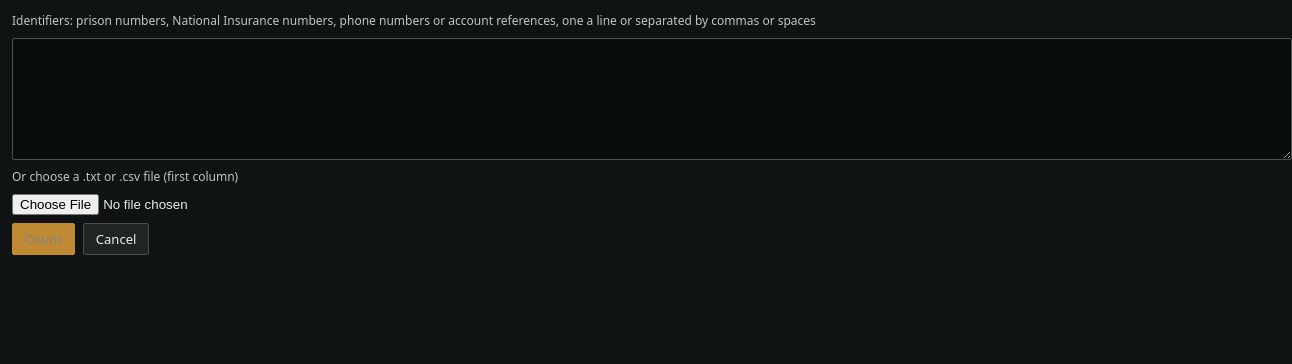
Test case: the count comes first › offers no add when nothing was found
This screenshot has width=1292, height=364.
Type "Z9999ZZ NOBODY" into the text box labelled "Identifiers" at (652, 99), box [12,38,1291,160]
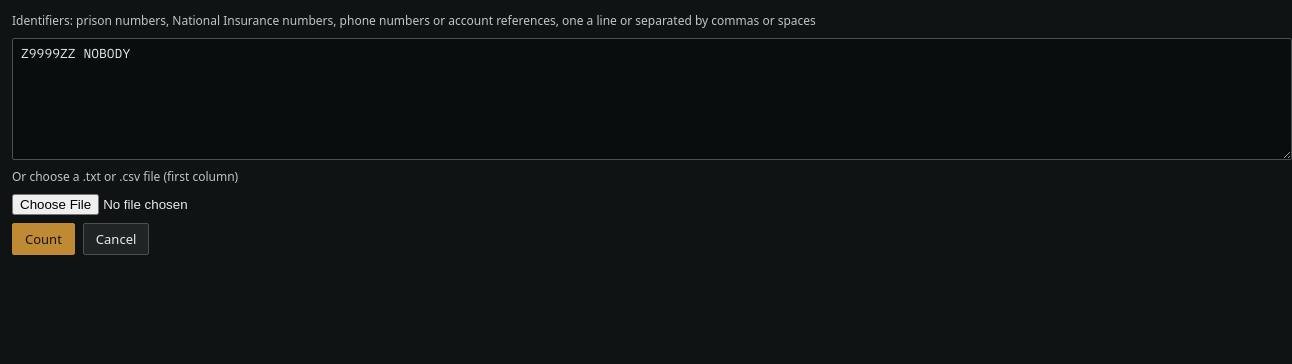
Click the button "Count" at (43, 239), box [12,223,75,255]
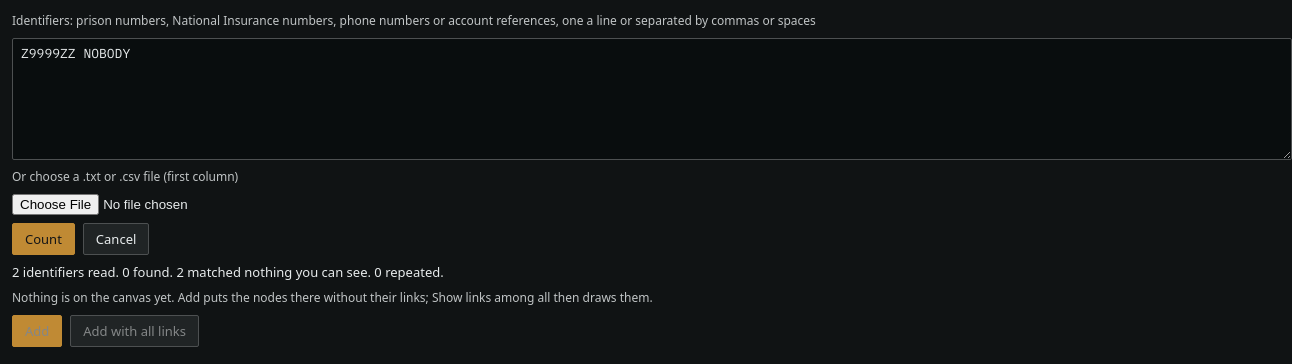
Expected: the message "2 identifiers read. 0 found. 2 matched nothing you can see. 0 repeated." is shown, [12,263,444,281]
Expected: the button "Add" is disabled, [12,315,62,347]
Expected: the button "Add with all links" is disabled, [70,315,199,347]
